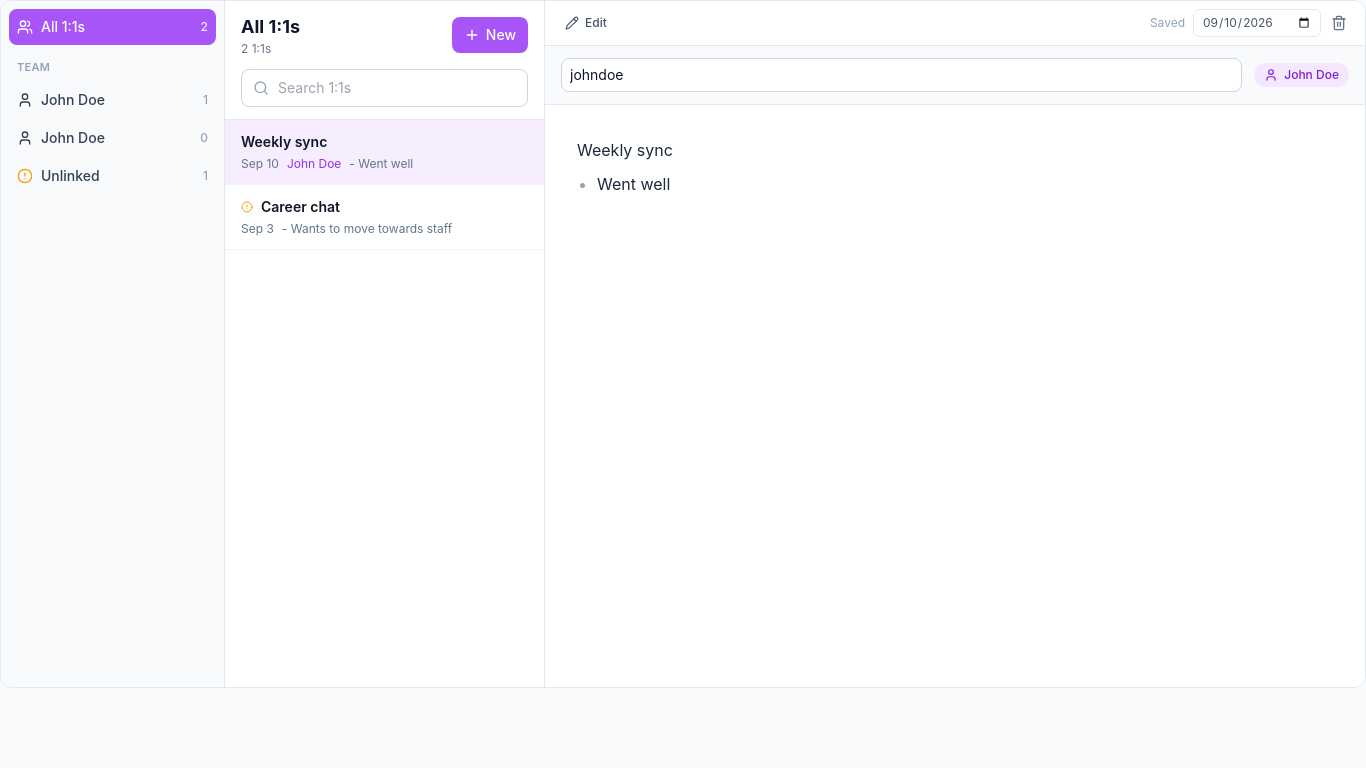
Test case: 1:1 Meetings page › should show which 1:1s are not linked to anyone
Expected: the 1st text "Weekly sync" is shown, [241,133,327,150]
Click the button with aria-label "Unlinked, 1 1:1s": (112, 176) [9,158,216,194]
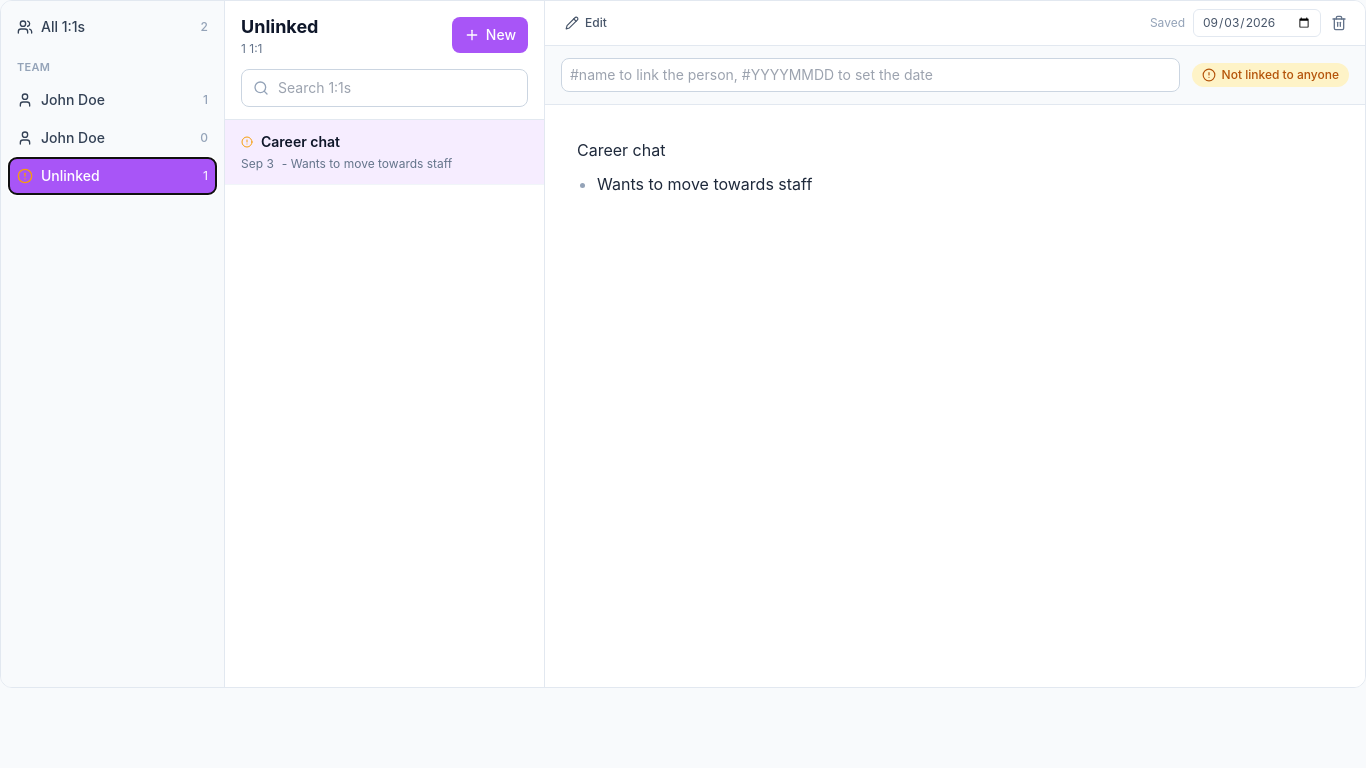
Expected: the 1st text "Career chat" is shown, [261,133,340,150]
Expected: the button "Weekly sync" is gone
